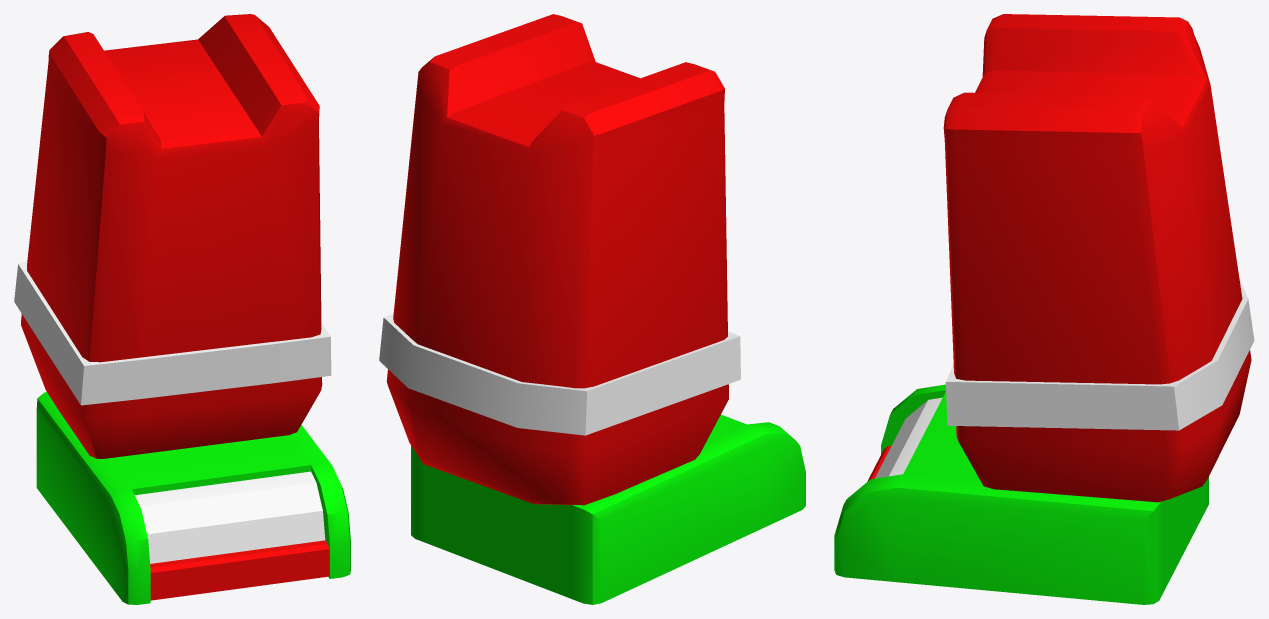
The model's file is Drill_LowerLeg.fbx.
3 renders of one model, left to right at view 1: azimuth 30°, elevation 25°; view 2: azimuth 150°, elevation 25°; view 3: azimuth 270°, elevation 25°, orthographic. The views are drawn at different scales.
Visible parts, largest first — view 1: Drill_LowerLeg; view 2: Drill_LowerLeg; view 3: Drill_LowerLeg.
Part boxes in pixels (left/top/right/bottom): Drill_LowerLeg: left=14, top=14, right=350, bottom=604; Drill_LowerLeg: left=379, top=14, right=805, bottom=604; Drill_LowerLeg: left=834, top=14, right=1254, bottom=604.
Size of the model in its own units: 29.49 by 46.92 by 36.43.
